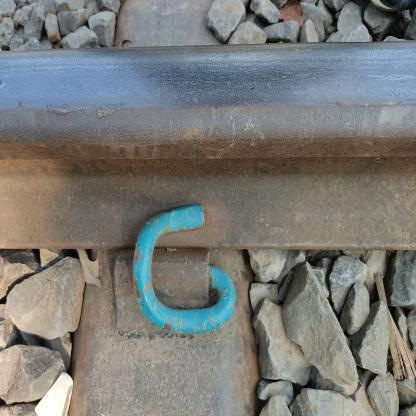Non Defective 1: (110, 59, 290, 247)
